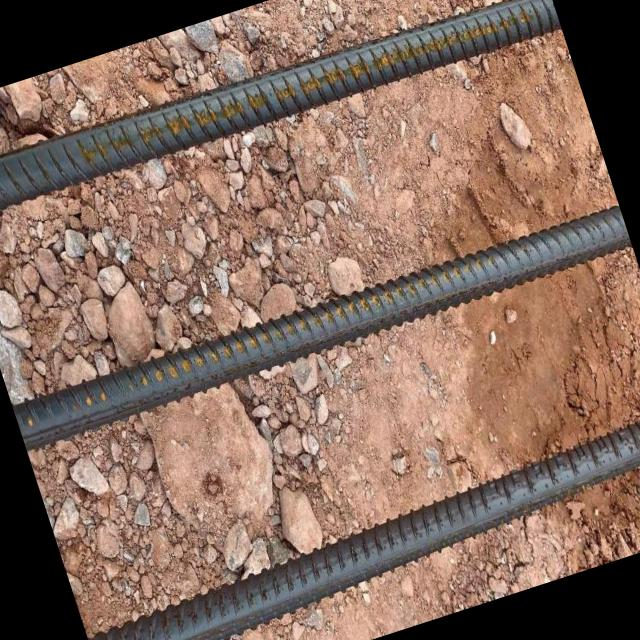ribbed bar: (10, 202, 636, 454), (75, 400, 640, 640), (0, 0, 562, 228)
